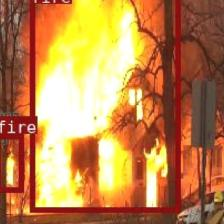fire: (29, 0, 178, 211), (0, 133, 22, 191)
